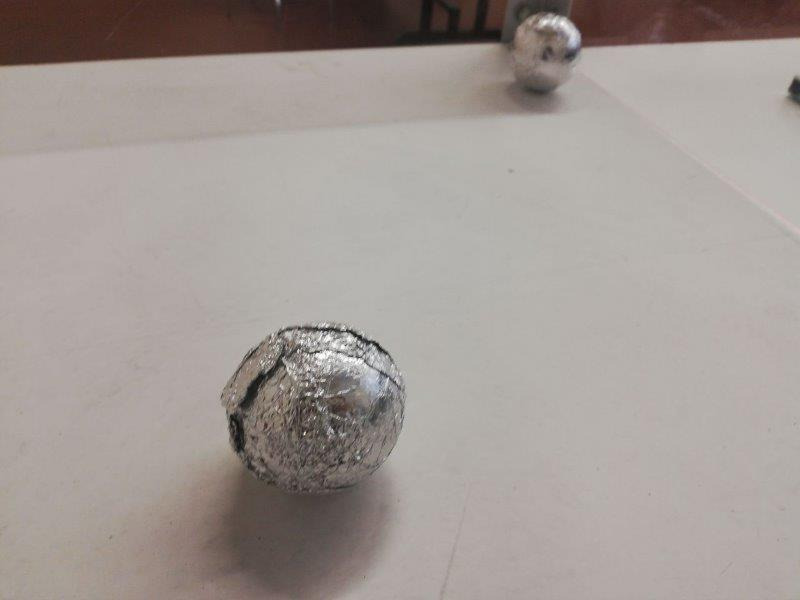bianca: (218, 326, 406, 495), (509, 16, 583, 90)
